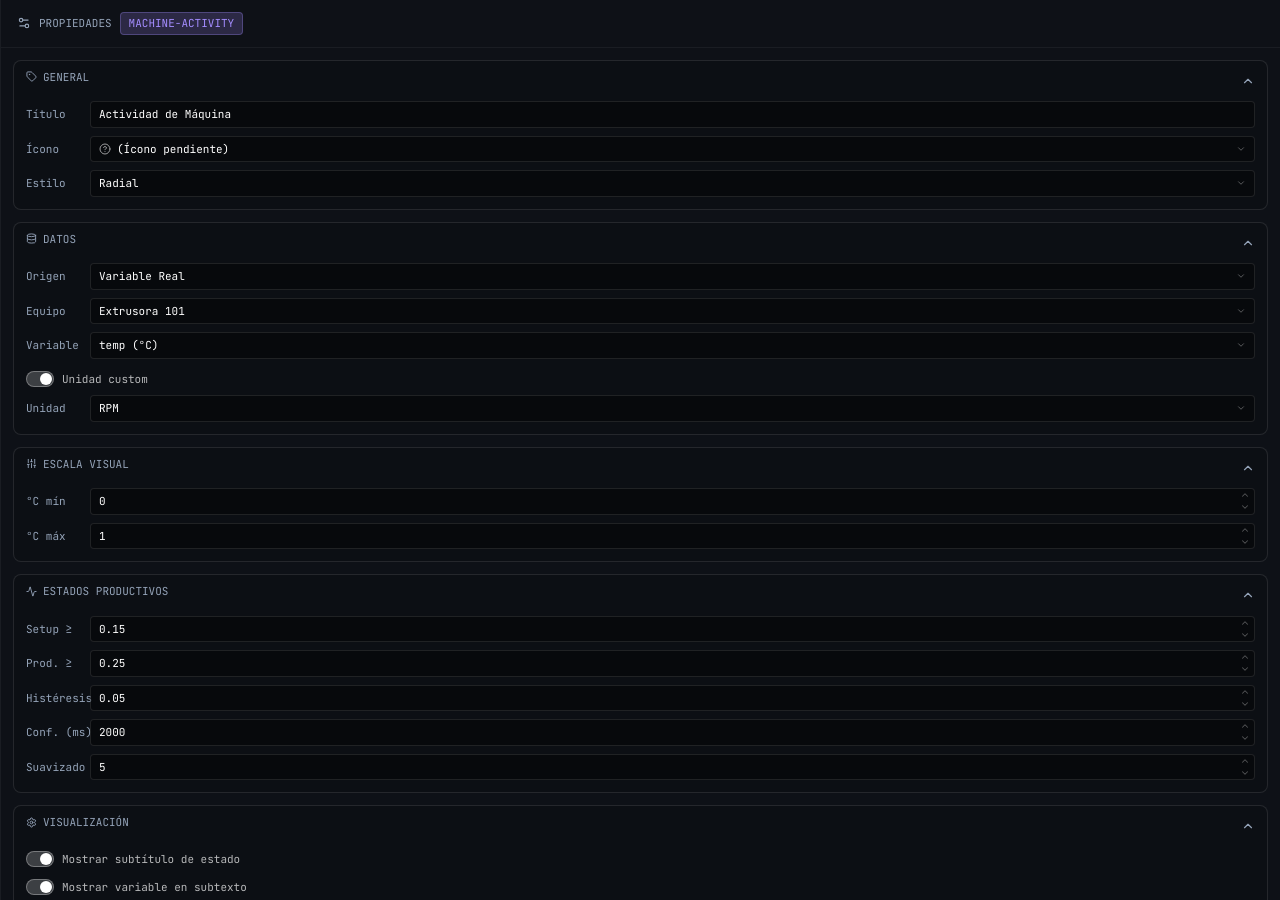
Test: PropertyDock machine-activity › syncs the simulated unit into scale labels when switching machine-activity from real to simulated
The image size is (1280, 900).
Expected: the text "°C mín" is shown, [26, 494, 66, 508]
Click the button "Variable Real" at (142, 276), box [90, 263, 1255, 290]
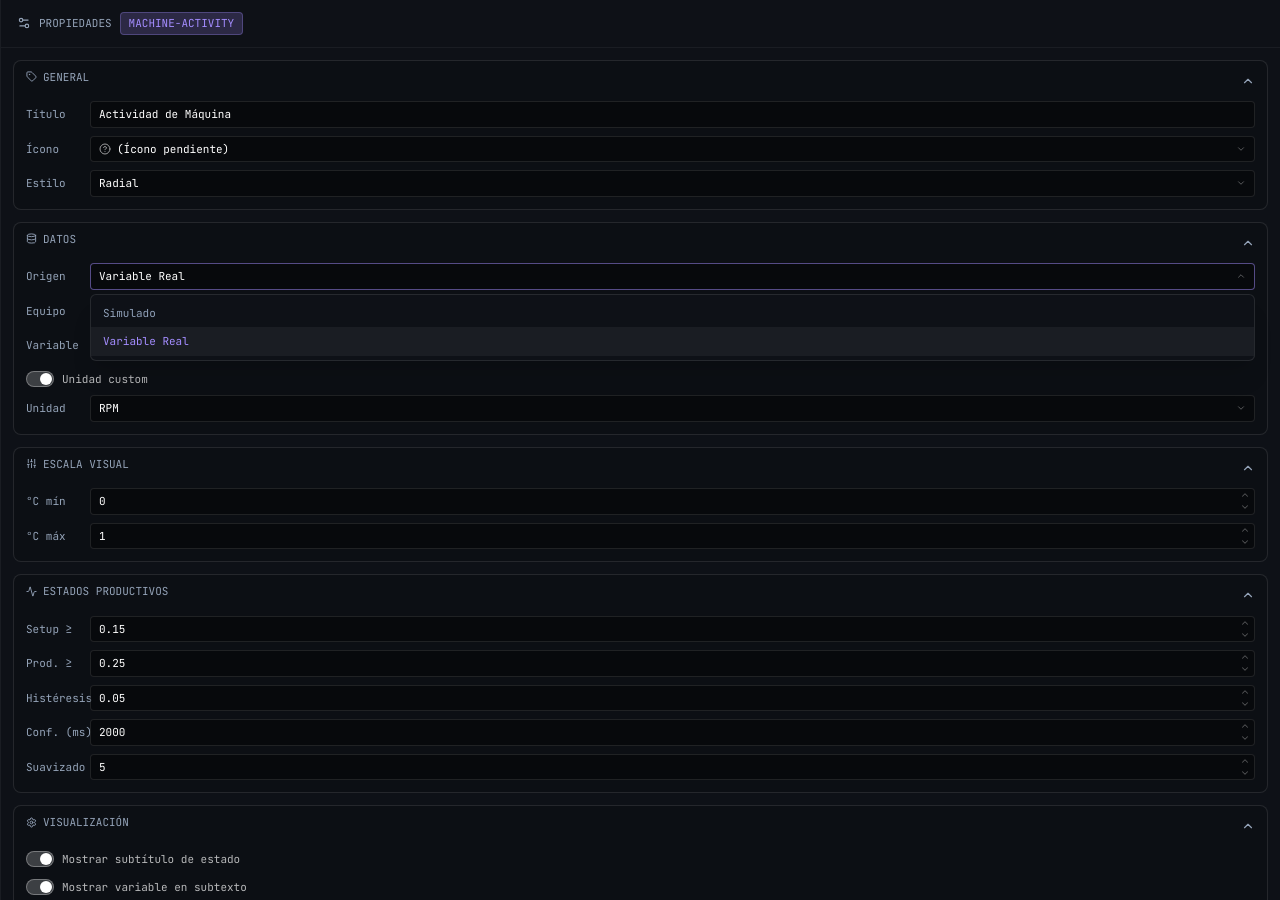
Click the button "Simulado" at (129, 312), box [91, 298, 1254, 327]
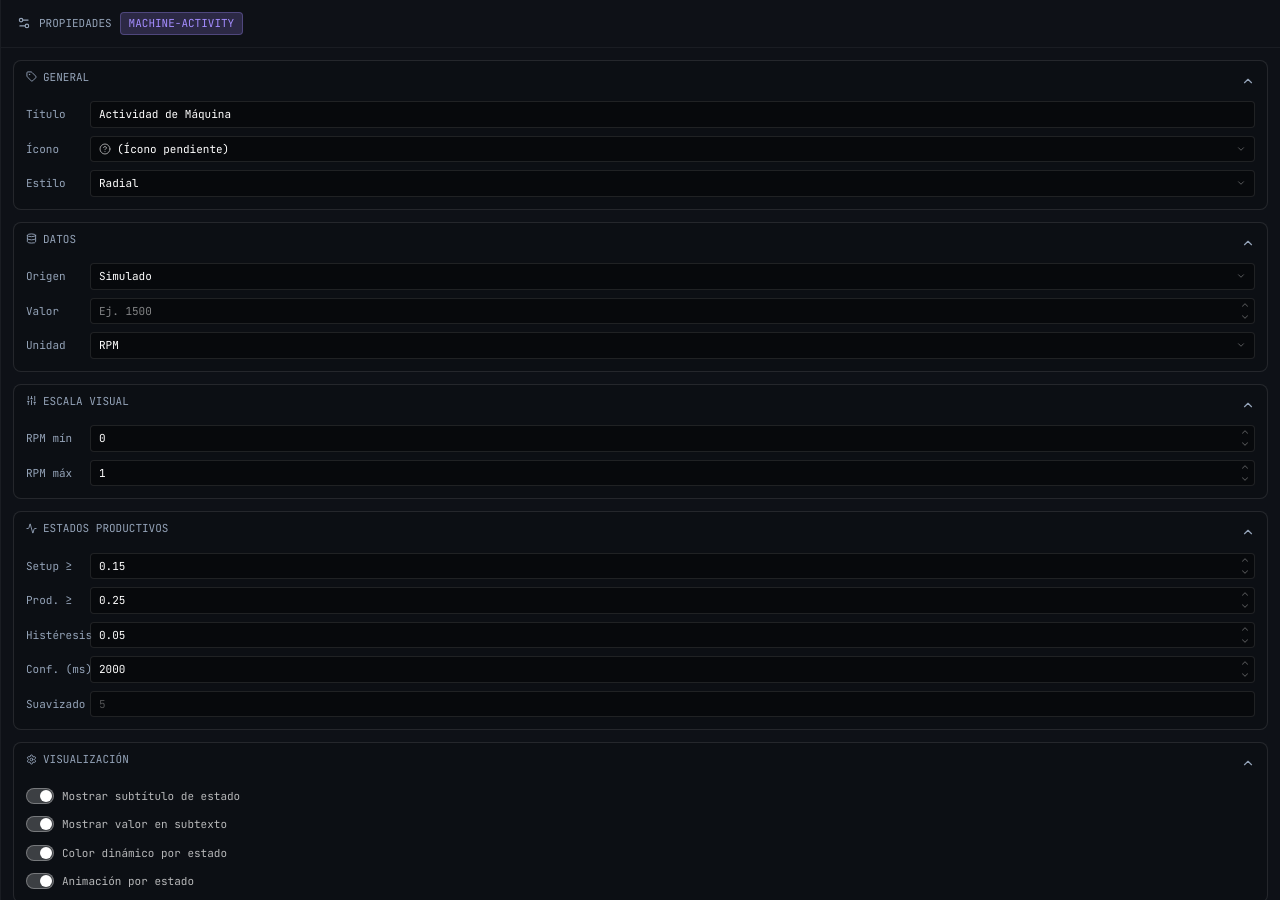
Result: the text "RPM mín" is shown at [26, 431, 72, 445]
Result: the text "RPM máx" is shown at [26, 466, 72, 480]
Result: the text "°C mín" is gone
